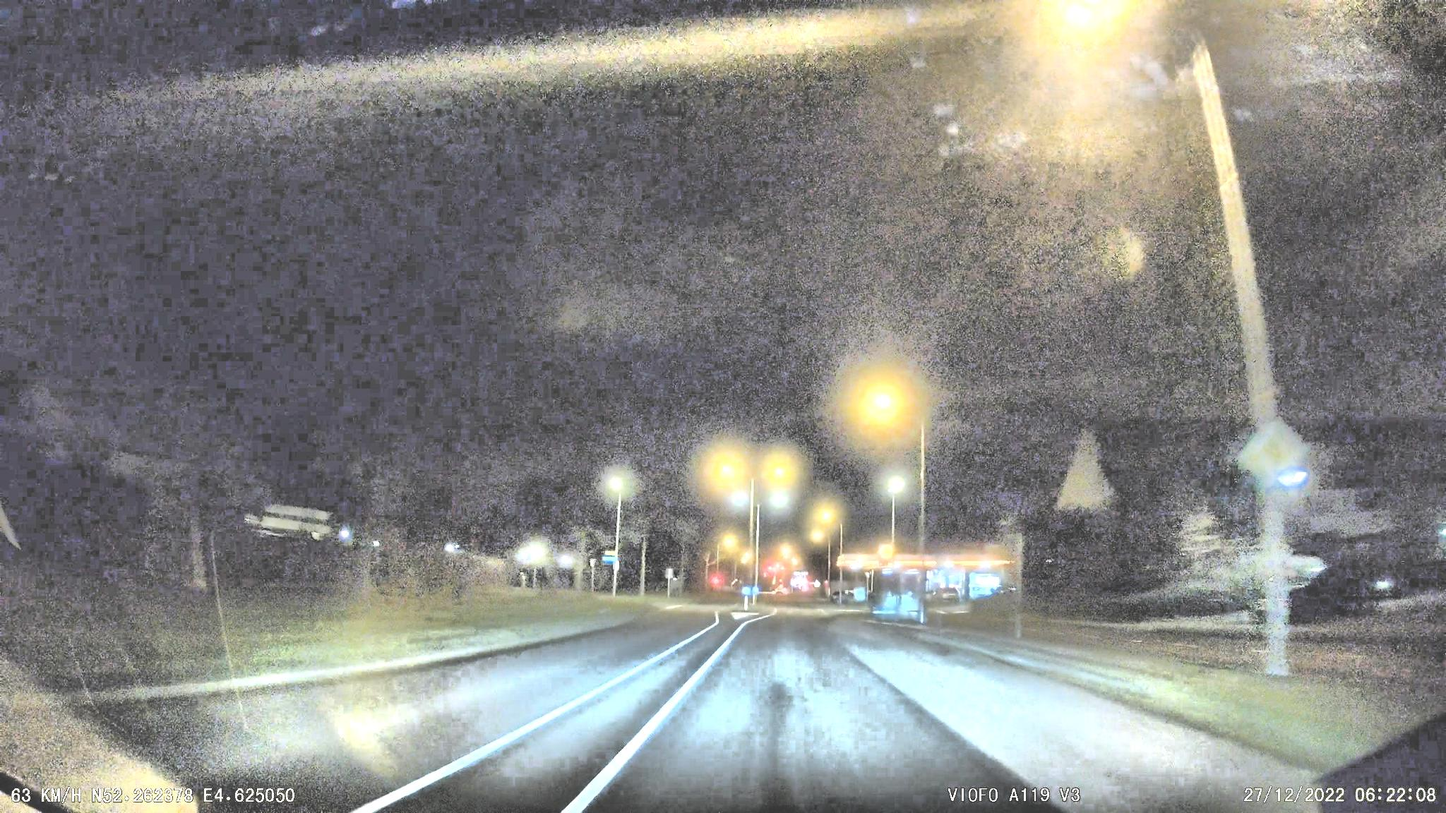Roads: (2, 609, 1317, 813)
